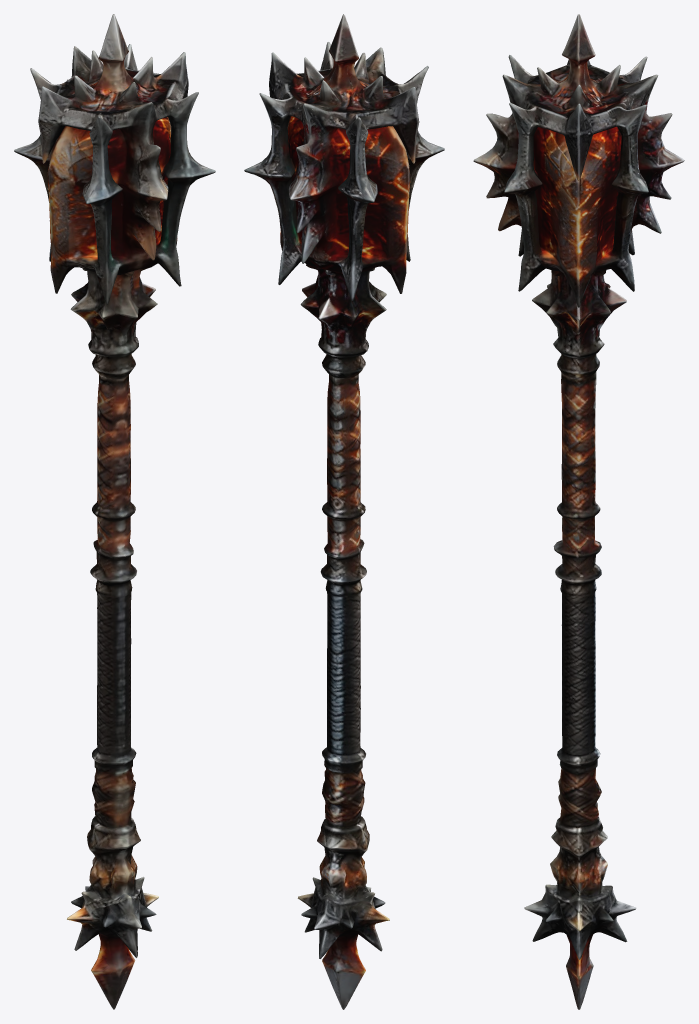
The model's file is hellfire_maul.glb.
3 renders of one model, left to right at view 1: azimuth 30°, elevation 25°; view 2: azimuth 150°, elevation 25°; view 3: azimuth 270°, elevation 25°, orthographic.
Parts seen in each view (by area): view 1: hellfire_maul; view 2: hellfire_maul; view 3: hellfire_maul.
Part boxes in pixels (x1=…): hellfire_maul: x1=14, y1=14, x2=215, y2=1009; hellfire_maul: x1=244, y1=14, x2=444, y2=1009; hellfire_maul: x1=473, y1=14, x2=684, y2=1009.
Size of the model in its own units: 0.213 by 1.35 by 0.2596.
Materials: 1 (1 with a texture image).
